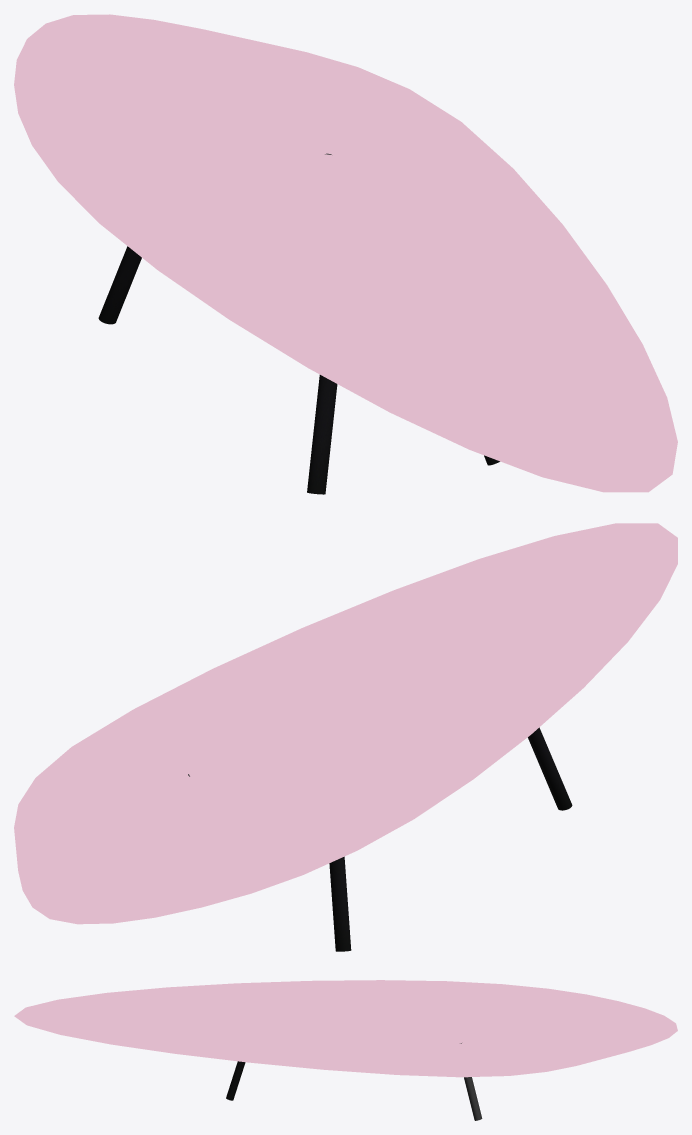
The model's file is mesa.obj.
3 renders of one model, top to bottom at view 1: azimuth 30°, elevation 25°; view 2: azimuth 150°, elevation 25°; view 3: azimuth 270°, elevation 25°, orthographic. The views are drawn at different scales.
Parts seen in each view (by area): view 1: polySurface53 Plane_split_1, polySurface44 polySurface37 polySurface48, polySurface44 polySurface37 polySurface47; view 2: polySurface53 Plane_split_1, polySurface44 polySurface37 polySurface47, polySurface44 polySurface37 polySurface48; view 3: polySurface53 Plane_split_1, polySurface49 polySurface44 polySurface37 polySurface50, polySurface44 polySurface37 polySurface46.
Boxes of the visible parts, bbox=[...] form: polySurface53 Plane_split_1: bbox=[14, 14, 677, 492]; polySurface44 polySurface37 polySurface48: bbox=[307, 375, 337, 494]; polySurface44 polySurface37 polySurface47: bbox=[98, 246, 141, 324]; polySurface53 Plane_split_1: bbox=[14, 523, 677, 924]; polySurface44 polySurface37 polySurface47: bbox=[329, 856, 351, 951]; polySurface44 polySurface37 polySurface48: bbox=[528, 727, 572, 810]; polySurface53 Plane_split_1: bbox=[14, 980, 677, 1077]; polySurface49 polySurface44 polySurface37 polySurface50: bbox=[460, 1043, 482, 1120]; polySurface44 polySurface37 polySurface46: bbox=[226, 1061, 245, 1100].
Size of the model in its own units: 3.58 by 1.23 by 10.33.
Materials: 6 (6 with a texture image).
